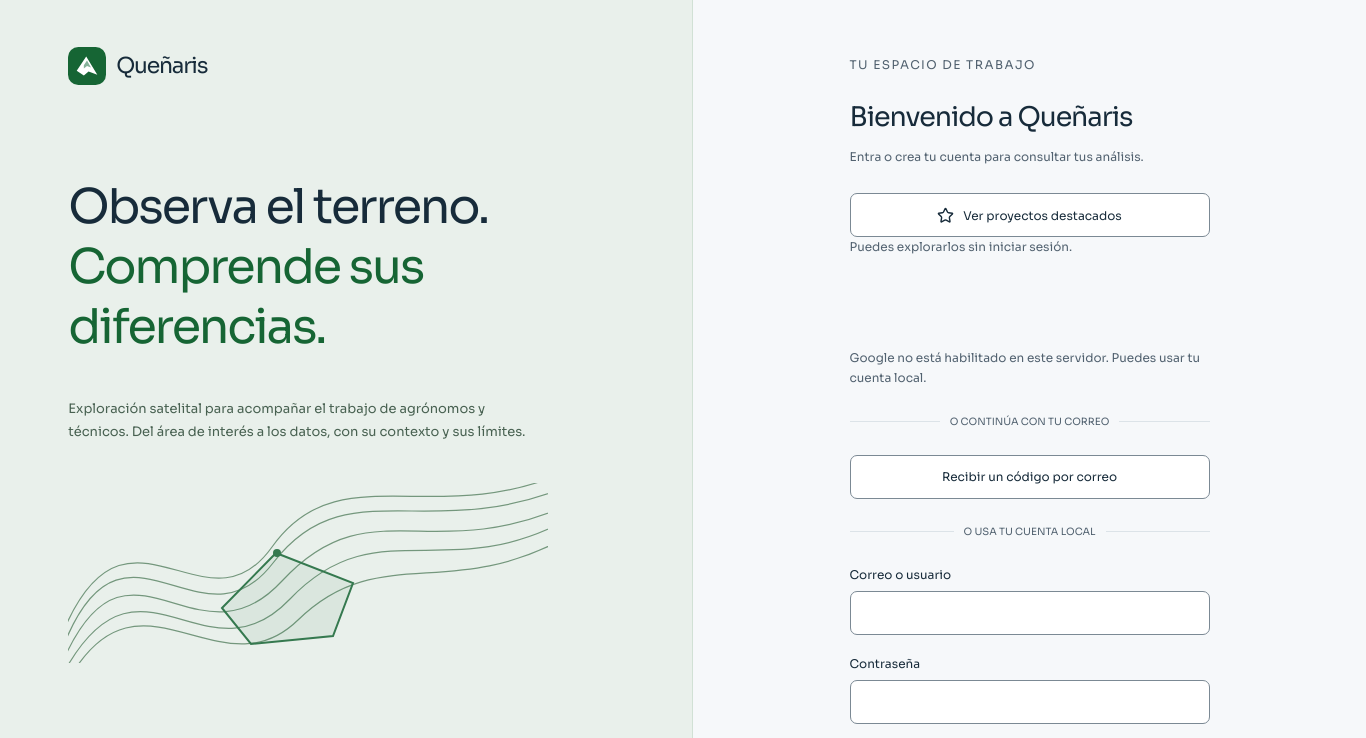
Scenario: self-service email access › requests a code, reports a failure, and signs in after a valid retry
Click the button "Recibir un código por correo": {"x": 1030, "y": 477} [850, 455, 1210, 499]
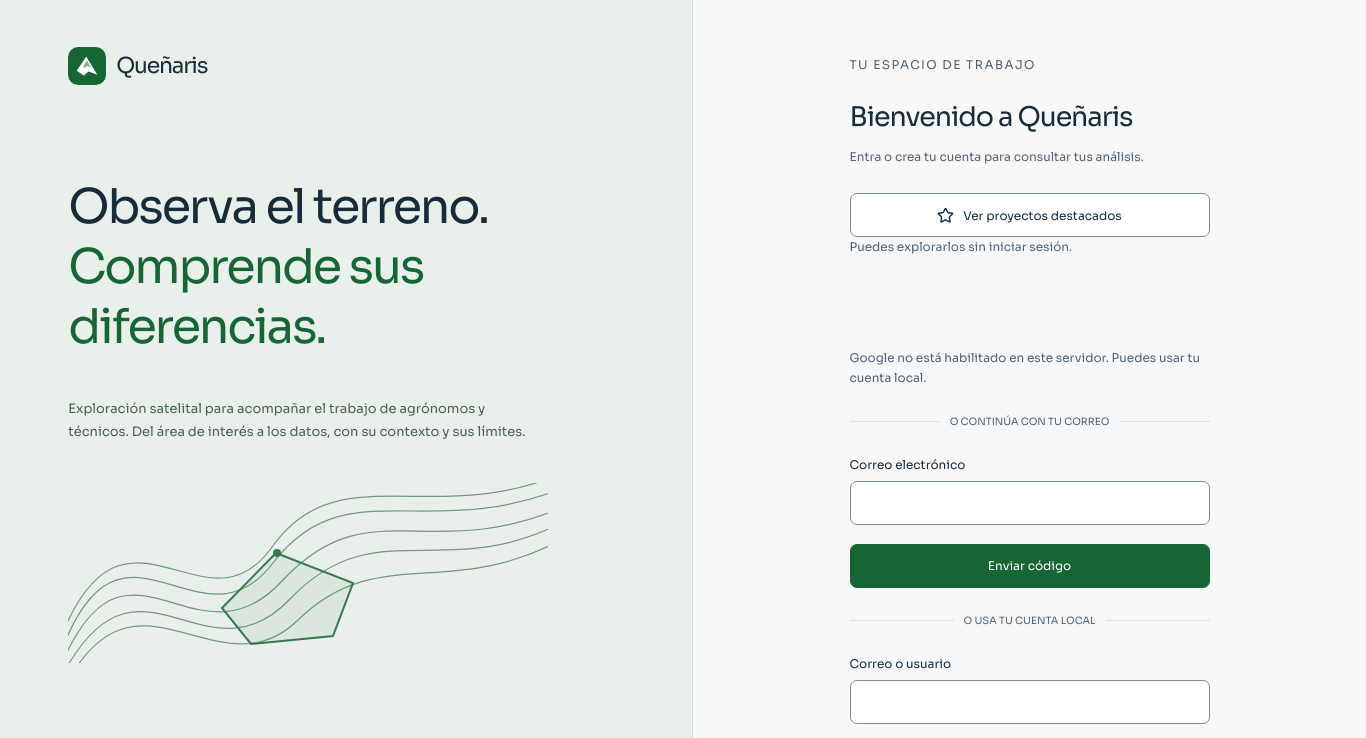
In the field labelled "Correo electrónico": {"x": 1030, "y": 503} [850, 481, 1210, 525], type "tecnico@unsa.edu.pe"
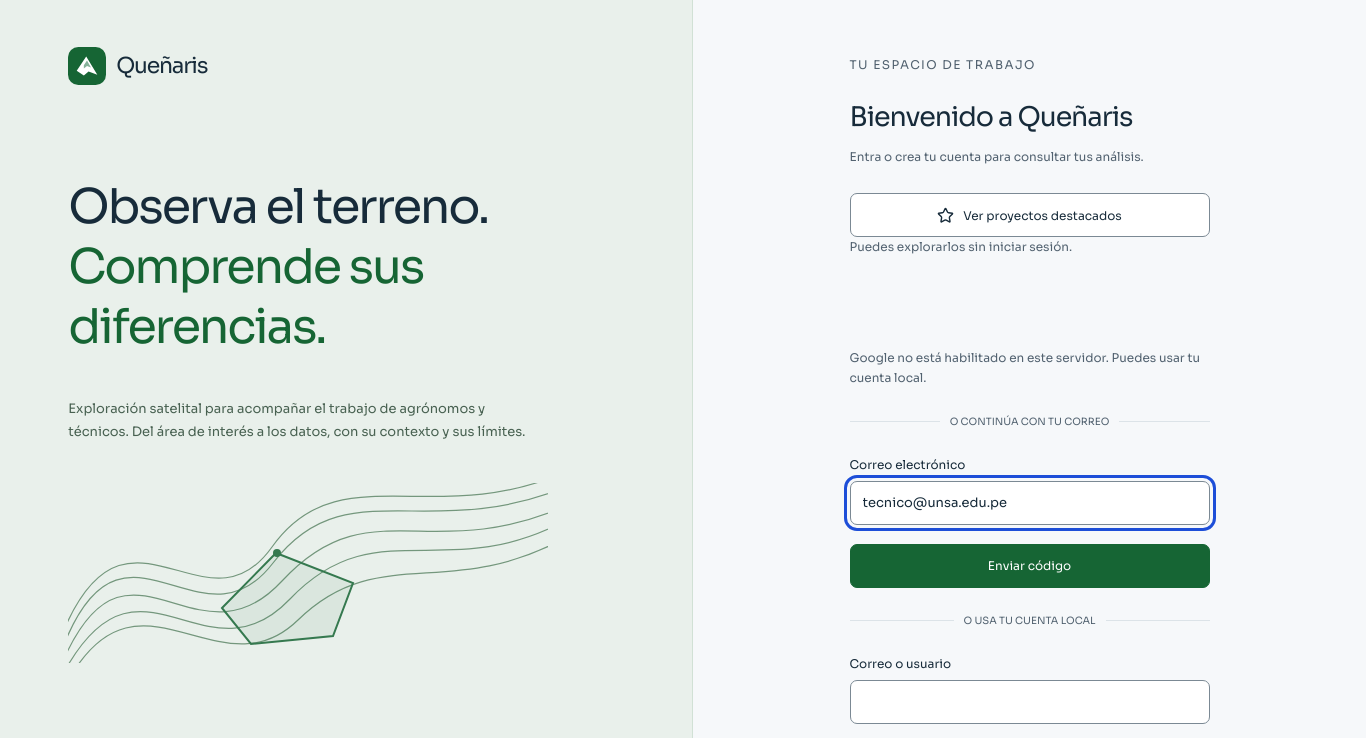
Click the button "Enviar código": {"x": 1030, "y": 566} [850, 544, 1210, 588]
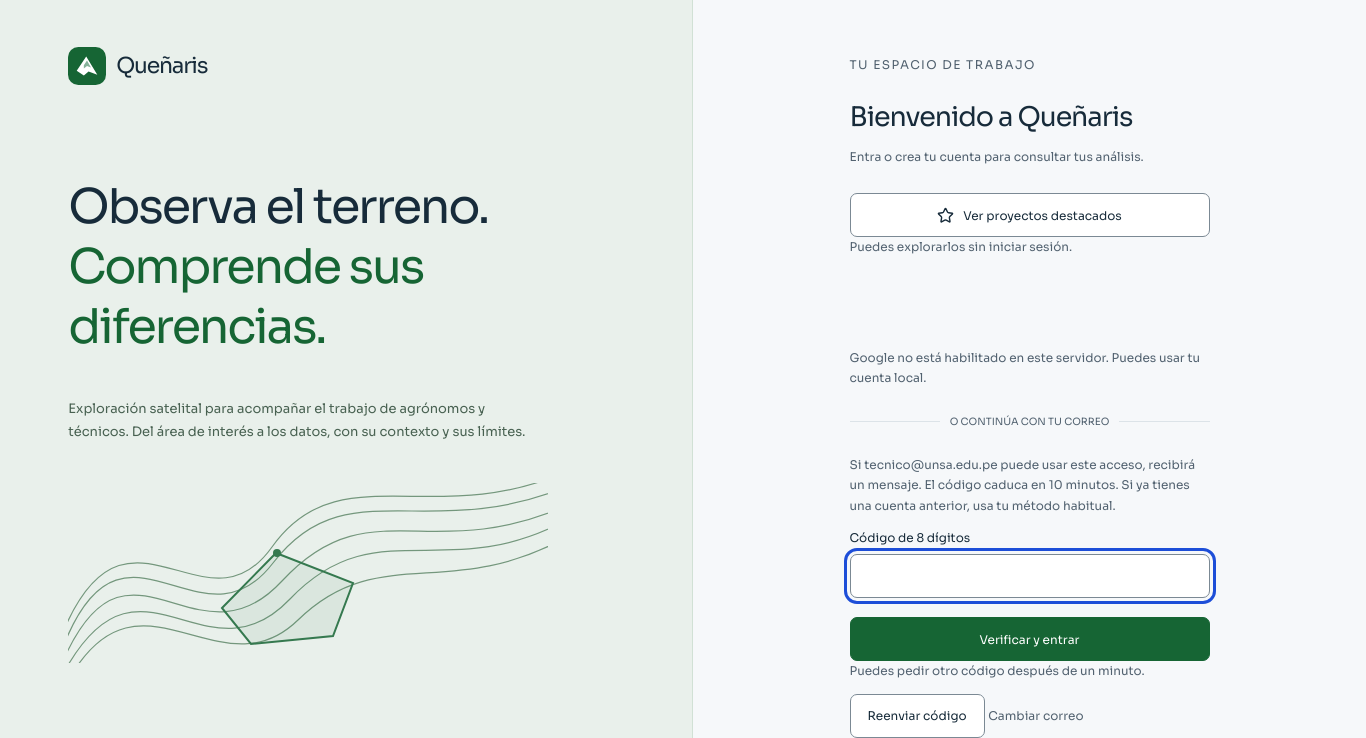
In the field labelled "Código de 8 dígitos": {"x": 1030, "y": 576} [850, 554, 1210, 598], type "12345678"
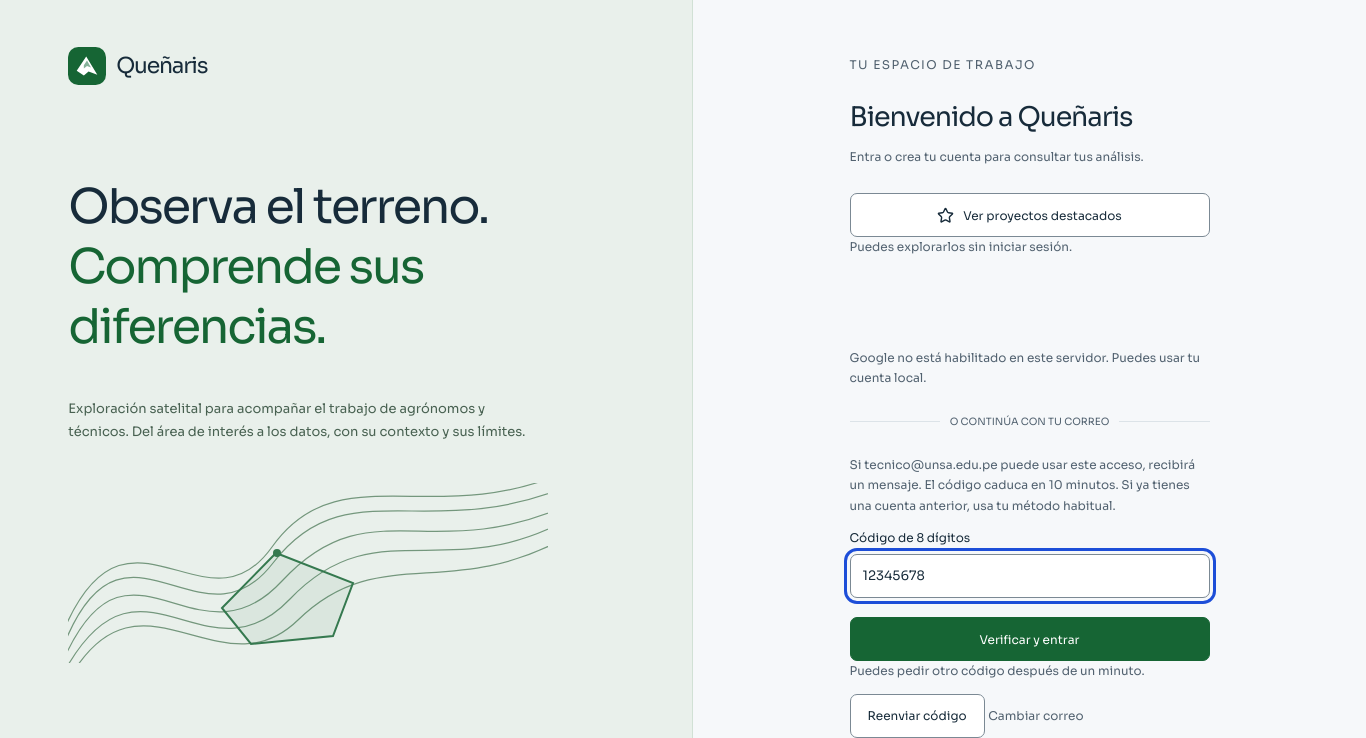
Click the button "Verificar y entrar": {"x": 1030, "y": 639} [850, 617, 1210, 661]
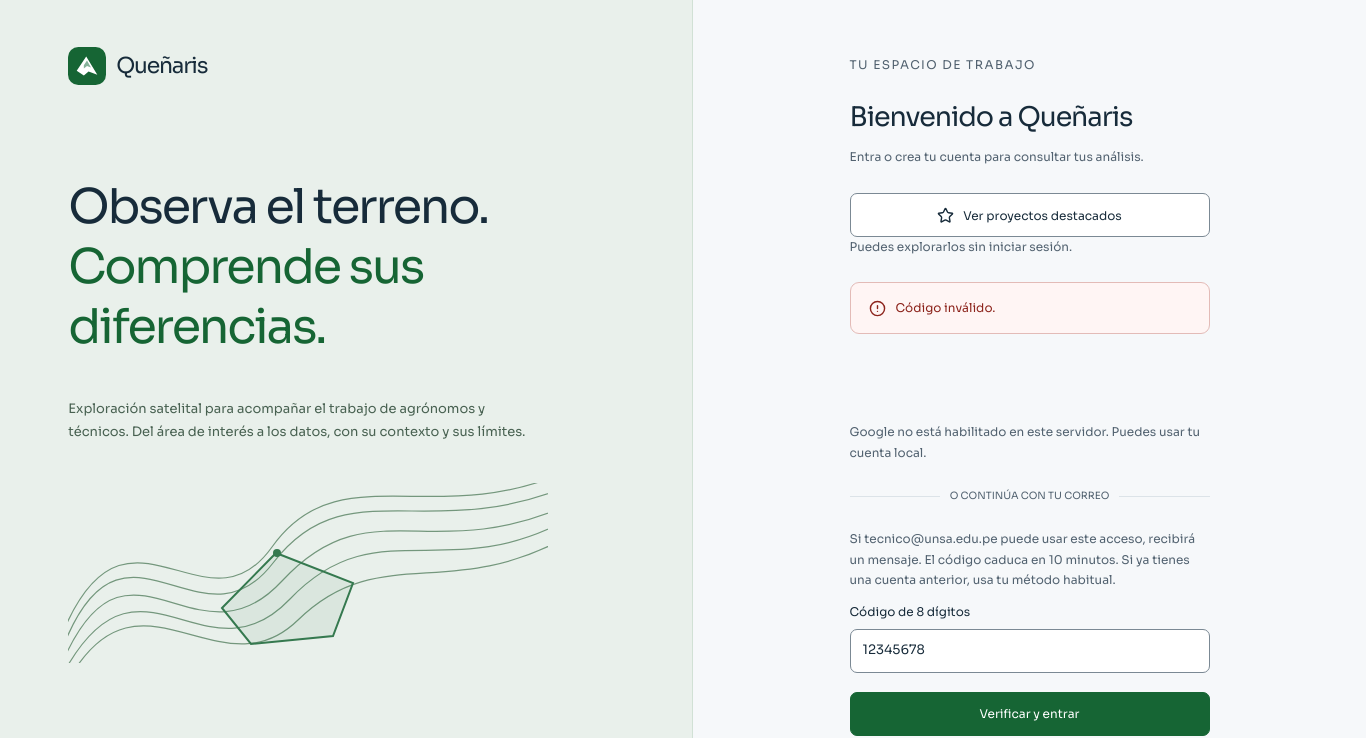
Expected: the message "Código inválido." is shown, [850, 282, 1210, 334]
Click the button "Verificar y entrar": {"x": 1030, "y": 714} [850, 692, 1210, 736]
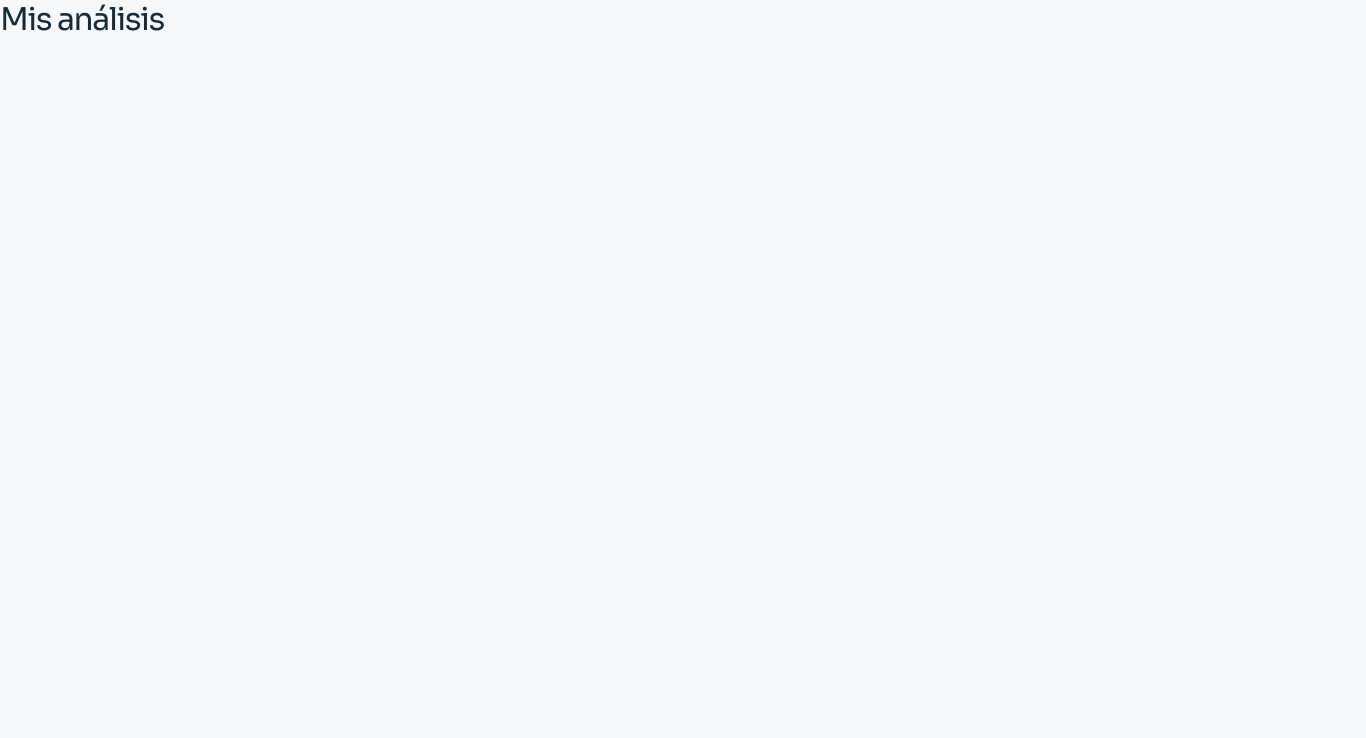
Expected: the heading "Mis análisis" is shown, [0, 0, 164, 39]
